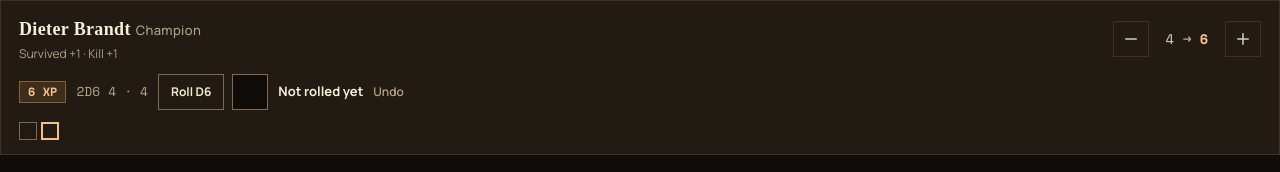
Test: ExperienceTab › fills the follow-up D6's box when it is rolled instead
The width and height of the screenshot is (1280, 172).
Click the button "Roll D6".
click(191, 92)  # box [158, 74, 224, 110]
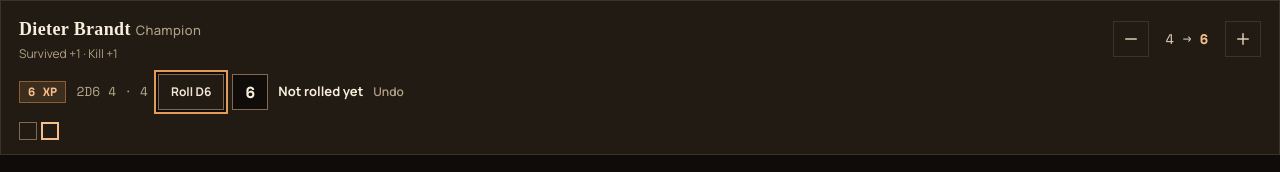
Expected: the field named "D6 rolled" holds "6", [232, 74, 268, 110]
